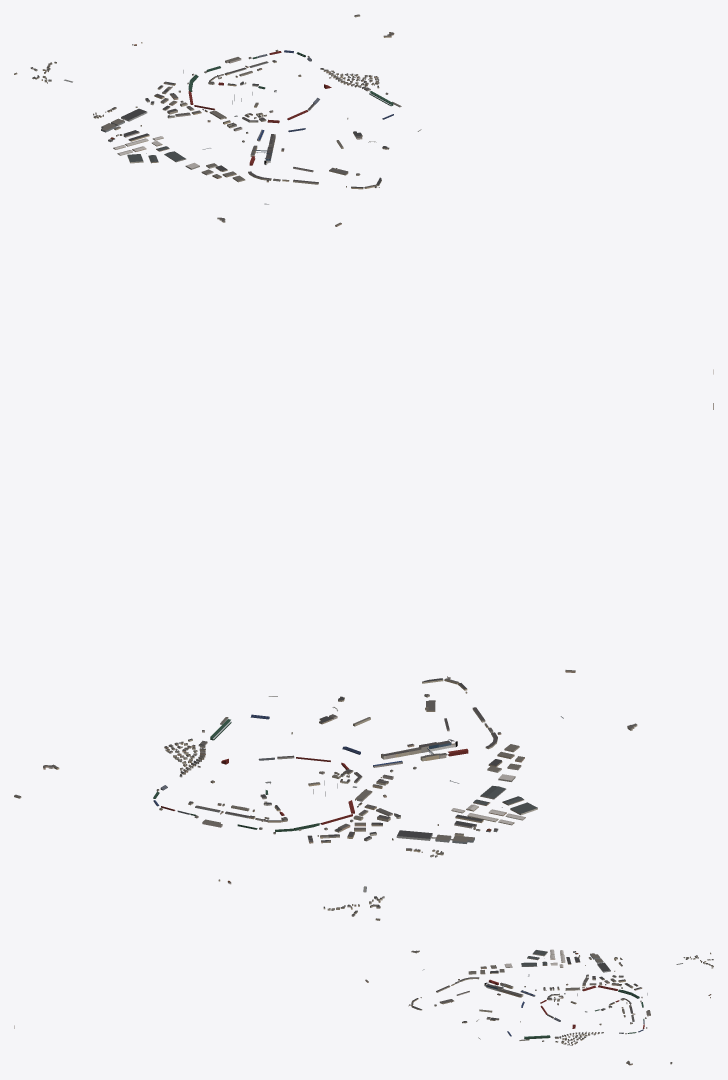
Rendered from scenery.glb.
3 views of the same model, one above another, from view 1: azimuth 30°, elevation 25°; view 2: azimuth 150°, elevation 25°; view 3: azimuth 270°, elevation 25° (orthographic). The views are drawn at different scales.
Parts seen in each view (by area): view 1: chunk_12_14; view 2: chunk_12_14, chunk_14_15, chunk_14_13; view 3: chunk_14_13, chunk_14_15, chunk_12_14, chunk_16_14, chunk_14_14, chunk_13_15, chunk_13_13.
Part boxes in pixels (x1,y1,x2,y2): chunk_12_14: (108,130,149,163); chunk_12_14: (454,802,537,832); chunk_14_15: (373,740,451,772); chunk_14_13: (255,800,368,843); chunk_14_13: (582,982,640,1005); chunk_14_15: (486,982,536,997); chunk_12_14: (532,949,580,964); chunk_16_14: (542,1024,590,1045); chunk_14_14: (540,982,587,1004); chunk_13_15: (488,962,537,985); chunk_13_13: (592,962,625,983).
Bounding box in the file's own units: 2192 × 44.95 × 5592.
